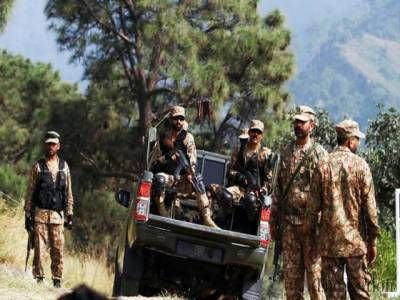uniform: (273, 115, 327, 298), (317, 120, 373, 292), (216, 114, 269, 233), (153, 107, 206, 223), (27, 151, 74, 276)
